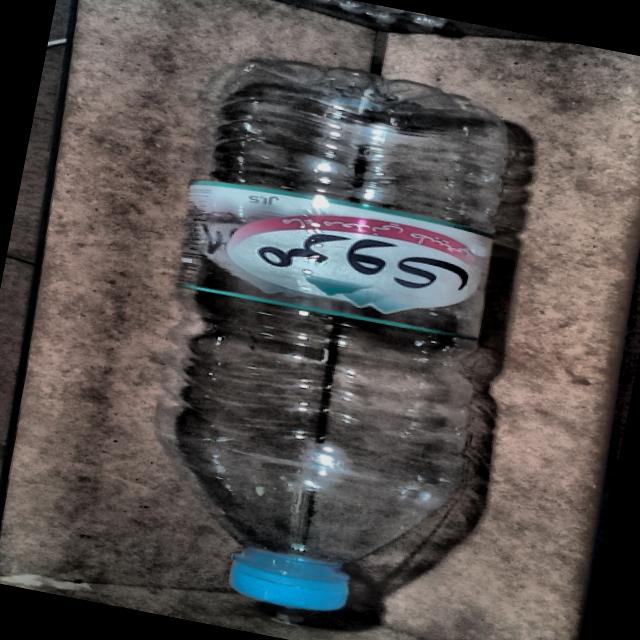plastic bottle: (174, 60, 509, 611)
